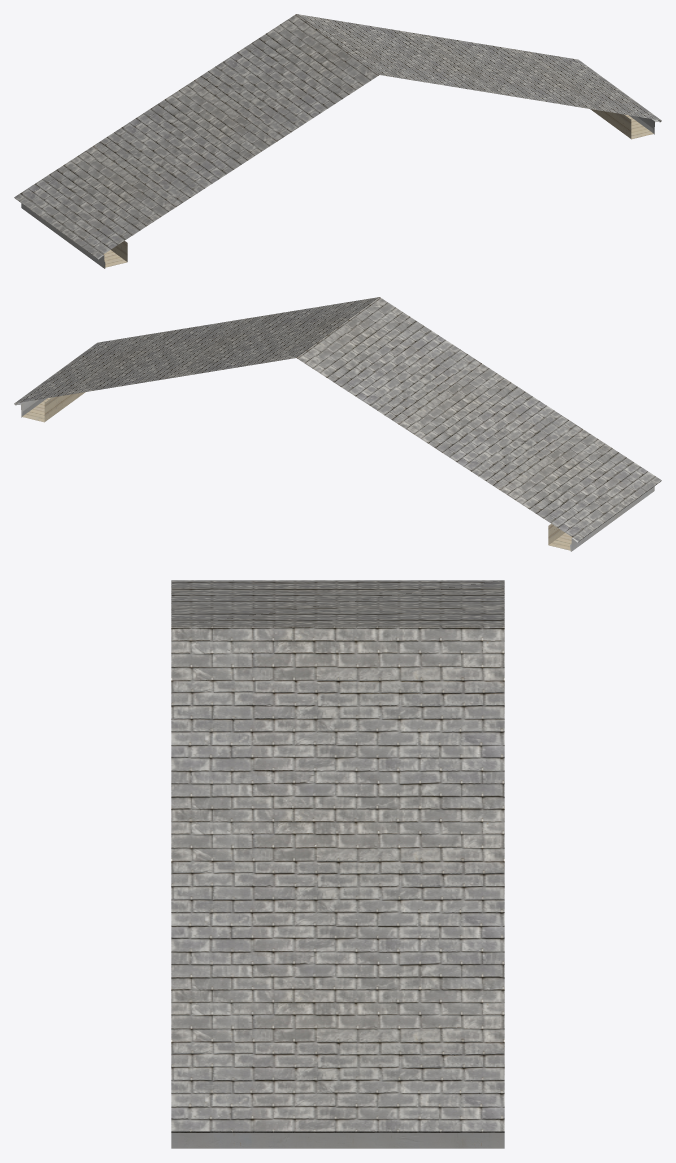
Rendered from RoofLow_7x_COL.FBX.
3 views of the same model, one above another, from view 1: azimuth 30°, elevation 25°; view 2: azimuth 150°, elevation 25°; view 3: azimuth 270°, elevation 25° (orthographic). The views are drawn at different scales.
Visible parts, largest first — view 1: RoofLow_7x_COL; view 2: RoofLow_7x_COL; view 3: RoofLow_7x_COL.
Boxes of the visible parts, <box> form: RoofLow_7x_COL: <box>14,14,661,268</box>; RoofLow_7x_COL: <box>14,297,661,551</box>; RoofLow_7x_COL: <box>171,580,504,1148</box>.
Size of the model in its own units: 784 by 168 by 201.
